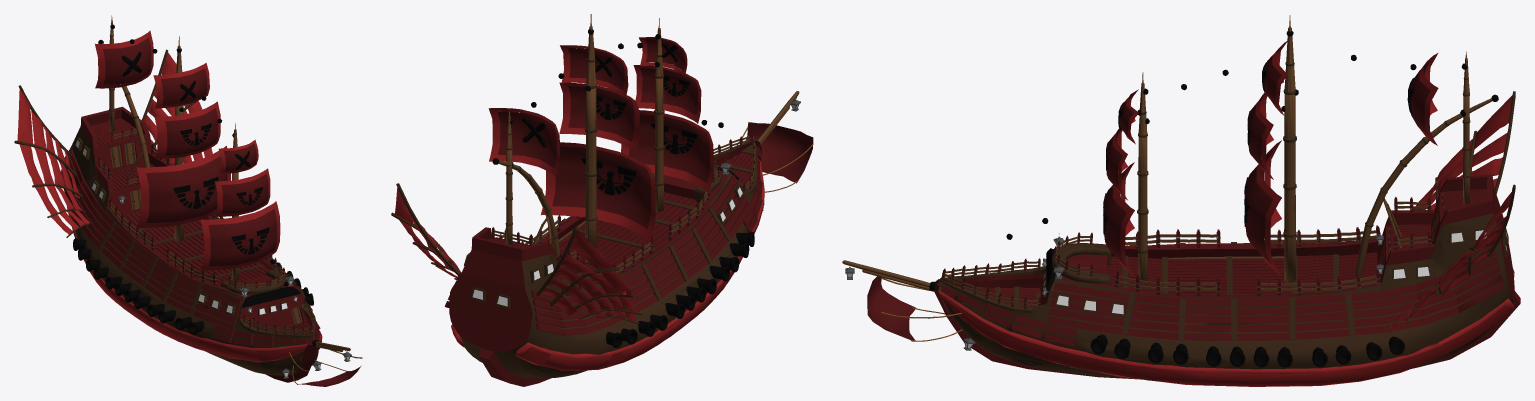
File: corsaire.glb
3 views of the same model, side by side, from view 1: azimuth 30°, elevation 25°; view 2: azimuth 150°, elevation 25°; view 3: azimuth 270°, elevation 25° (orthographic). The views are drawn at different scales.
Visible parts, largest first — view 1: koyukrmz, krmz, koyukahve, siyah, kahverengi, Metal, material; view 2: koyukrmz, krmz, koyukahve, kahverengi, siyah, Metal, material; view 3: koyukrmz, koyukahve, krmz, kahverengi, siyah, Metal, material.
Part boxes in pixels (box(x1,y1,x2,y2)): koyukrmz: box(60, 38, 360, 386); krmz: box(17, 30, 322, 362); koyukahve: box(14, 35, 318, 375); siyah: box(73, 24, 347, 351); kahverengi: box(99, 15, 350, 351); Metal: box(98, 129, 351, 378); material: box(76, 140, 349, 376); koyukrmz: box(444, 38, 813, 386); krmz: box(394, 37, 764, 370); koyukahve: box(391, 54, 757, 378); kahverengi: box(494, 14, 799, 282); siyah: box(492, 29, 796, 348); Metal: box(491, 99, 800, 283); material: box(472, 105, 797, 306); koyukrmz: box(867, 47, 1520, 379); koyukahve: box(938, 62, 1515, 379); krmz: box(938, 41, 1514, 386); kahverengi: box(842, 15, 1492, 305); siyah: box(929, 31, 1498, 367); Metal: box(845, 198, 1444, 350); material: box(847, 230, 1507, 347).
Size of the model in its own units: 14.21 by 20.1 by 34.01.
